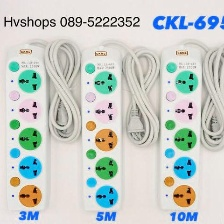three_eye_plug: (2, 41, 50, 212), (156, 43, 204, 213), (78, 44, 123, 214)
